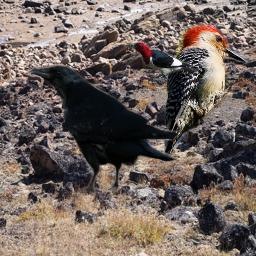Crow: (27, 63, 179, 201)
Woodpecker: (164, 24, 251, 159), (122, 40, 199, 83)
